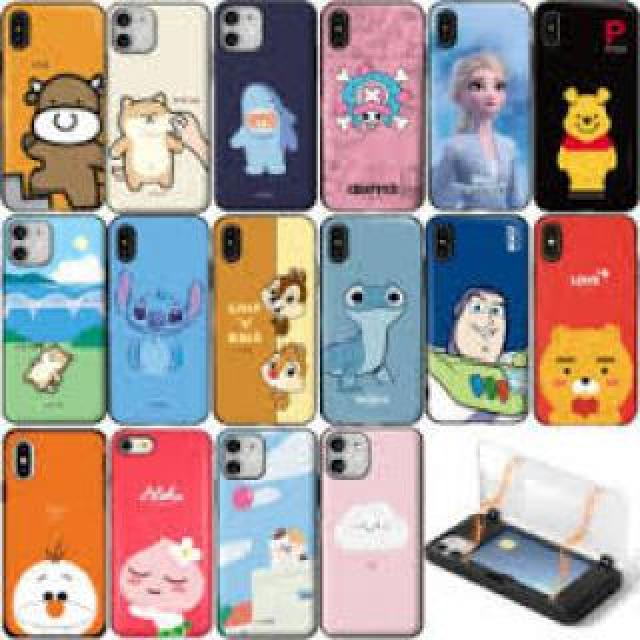smart phone: (318, 3, 432, 218), (109, 427, 224, 635), (215, 435, 327, 640), (215, 216, 323, 422), (423, 215, 527, 428), (0, 218, 107, 425), (105, 227, 217, 420), (536, 217, 636, 433), (110, 5, 207, 220), (2, 427, 102, 635), (330, 436, 430, 640), (217, 3, 310, 217), (537, 8, 635, 208), (318, 218, 415, 415), (4, 0, 94, 212)
